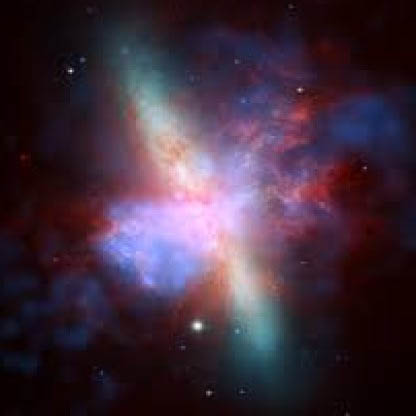Messier 82: (48, 7, 359, 392)
